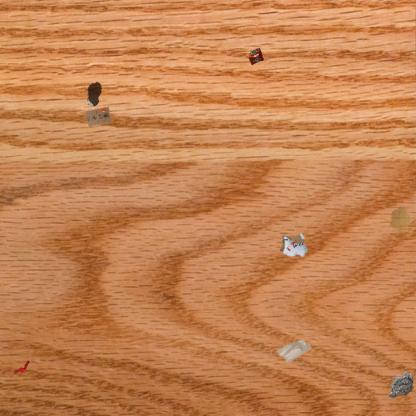dirty: (275, 338, 313, 365), (386, 371, 415, 399), (278, 232, 308, 257), (85, 106, 111, 127), (246, 45, 266, 67), (12, 359, 30, 376)
liquid: (390, 206, 416, 235), (86, 81, 103, 107)
